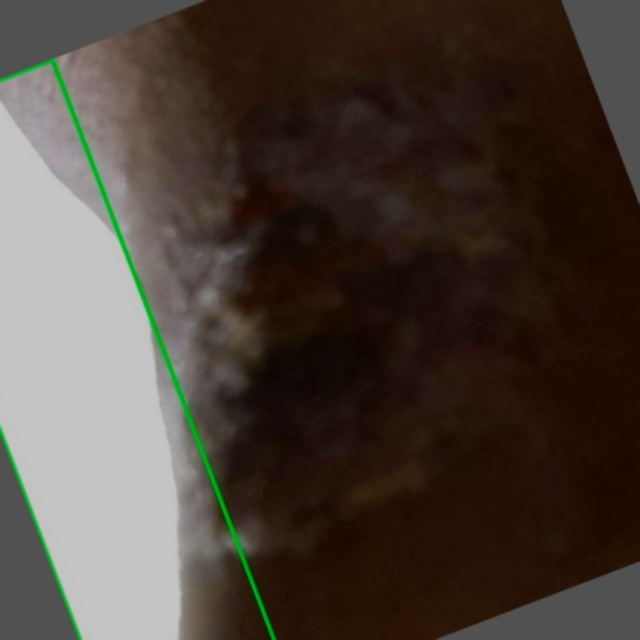Eczema: (0, 60, 273, 639)
